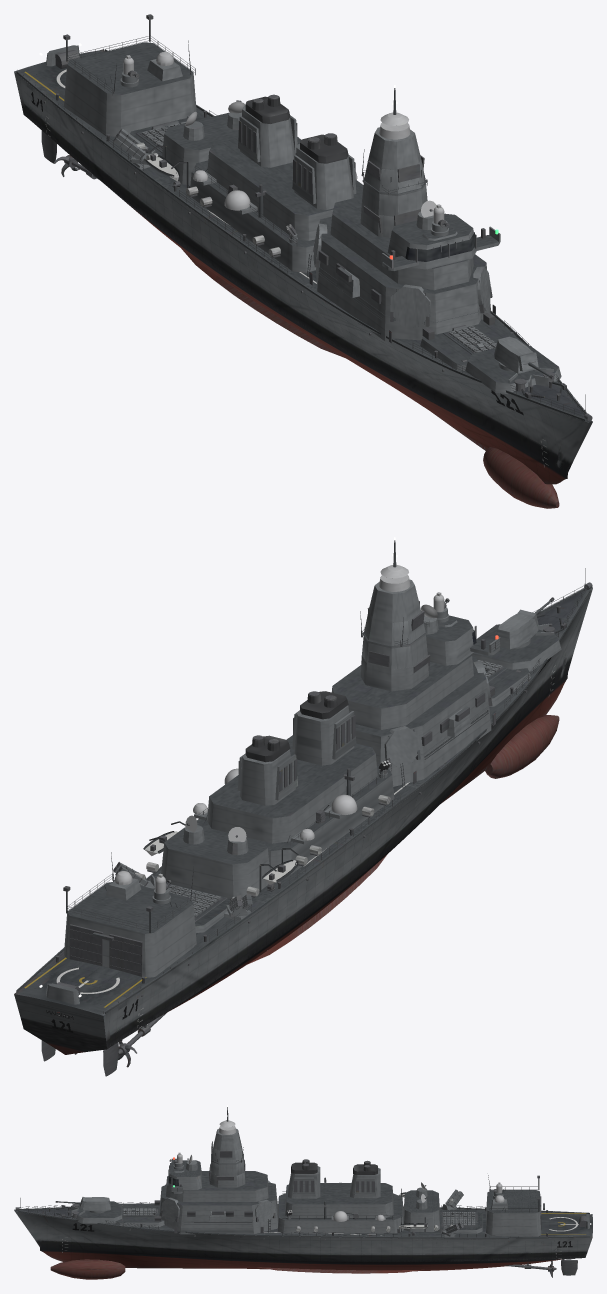
Rendered from player_ship.glb.
3 views of the same model, one above another, from view 1: azimuth 30°, elevation 25°; view 2: azimuth 150°, elevation 25°; view 3: azimuth 270°, elevation 25° (orthographic). The views are drawn at different scales.
Parts seen in each view (by area): view 1: ph_super, ph_hull, ph_detail; view 2: ph_super, ph_hull, ph_detail; view 3: ph_super, ph_hull, ph_detail.
Part boxes in pixels (x1,y1,x2,y2): ph_super: (16,42,592,420); ph_hull: (14,50,592,508); ph_detail: (17,14,586,467); ph_super: (16,540,592,1014); ph_hull: (14,587,592,1076); ph_detail: (17,537,586,1028); ph_super: (15,1107,590,1238); ph_hull: (14,1207,592,1279); ph_detail: (19,1105,591,1259).
Size of the model in its own units: 23.44 by 51.09 by 155.
Materials: 18 (18 with a texture image).
